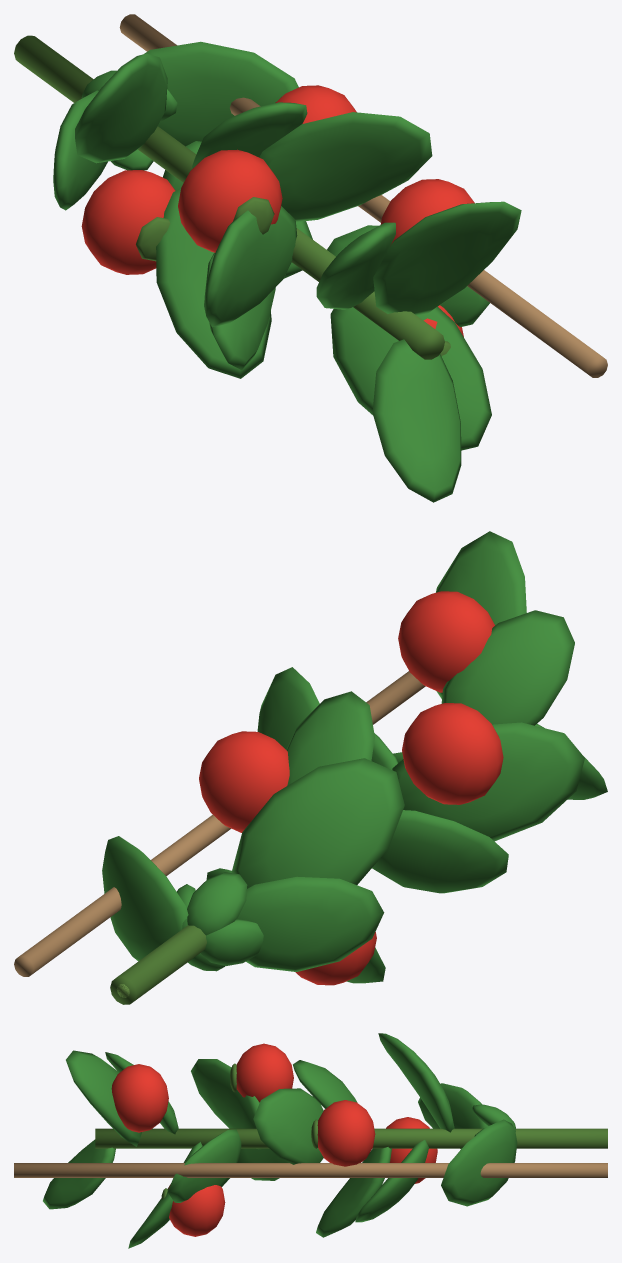
The model's file is Tomato.fbx.
The picture shows the model from 3 angles, top to bottom: view 1: azimuth 30°, elevation 25°; view 2: azimuth 150°, elevation 25°; view 3: azimuth 270°, elevation 25°; orthographic projection. The views are drawn at different scales.
Visible parts, largest first — view 1: Leaf.061, Leaf.068, Leaf.067, Leaf.055, Leaf.065, Stem.003, Leaf.063, Leaf.057, Leaf.059, Tomato.007, Tomato.009, Stake.001 (+9 smaller); view 2: Leaf.057, Leaf.056, Leaf.063, Leaf.066, Tomato.007, Leaf.062, Tomato.010, Tomato.006, Leaf.055, Stake.001, Leaf.060, Leaf.067 (+7 smaller); view 3: Stake.001, Stem.003, Leaf.061, Leaf.055, Tomato.006, Tomato.010, Leaf.063, Leaf.067, Tomato.007, Leaf.057, Leaf.059, Leaf.064 (+10 smaller).
Boxes of the visible parts, box(x1,y1,x2,y2) form: Leaf.061: box(259, 112, 432, 221); Leaf.068: box(372, 339, 461, 502); Leaf.067: box(373, 201, 521, 315); Leaf.055: box(144, 41, 298, 146); Leaf.065: box(330, 306, 491, 450); Stem.003: box(14, 35, 444, 359); Leaf.063: box(204, 206, 297, 327); Leaf.057: box(75, 53, 167, 163); Leaf.059: box(156, 188, 271, 378); Tomato.007: box(178, 149, 282, 252); Tomato.009: box(81, 170, 175, 274); Stake.001: box(119, 14, 607, 377); Leaf.057: box(231, 758, 404, 888); Leaf.056: box(237, 876, 384, 971); Leaf.063: box(392, 722, 584, 841); Leaf.066: box(441, 610, 574, 725); Tomato.007: box(402, 703, 503, 804); Leaf.062: box(372, 810, 508, 893); Tomato.010: box(398, 591, 494, 692); Tomato.006: box(199, 731, 289, 832); Leaf.055: box(102, 836, 188, 961); Stake.001: box(14, 671, 425, 976); Leaf.060: box(286, 691, 374, 785); Leaf.067: box(436, 531, 526, 698); Stake.001: box(14, 1163, 607, 1177); Stem.003: box(95, 1128, 607, 1148); Leaf.061: box(253, 1088, 323, 1164); Leaf.055: box(441, 1119, 517, 1206); Tomato.006: box(317, 1100, 375, 1166); Tomato.010: box(111, 1064, 168, 1132); Leaf.063: box(191, 1059, 261, 1149); Leaf.067: box(66, 1050, 141, 1146); Tomato.007: box(236, 1043, 293, 1102); Leaf.057: box(378, 1033, 454, 1132); Leaf.059: box(316, 1147, 391, 1237); Leaf.064: box(168, 1129, 241, 1202).
Bounding box in the file's own units: 0.3485 × 0.3425 × 0.95.
